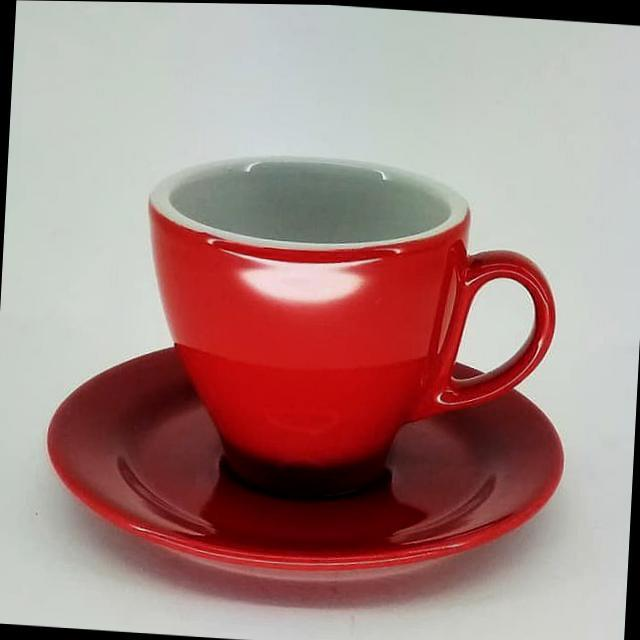cup: (28, 118, 600, 618)
